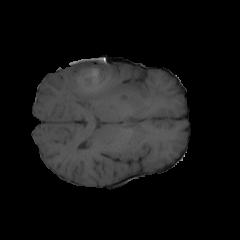glioma: (64, 58, 135, 107)
